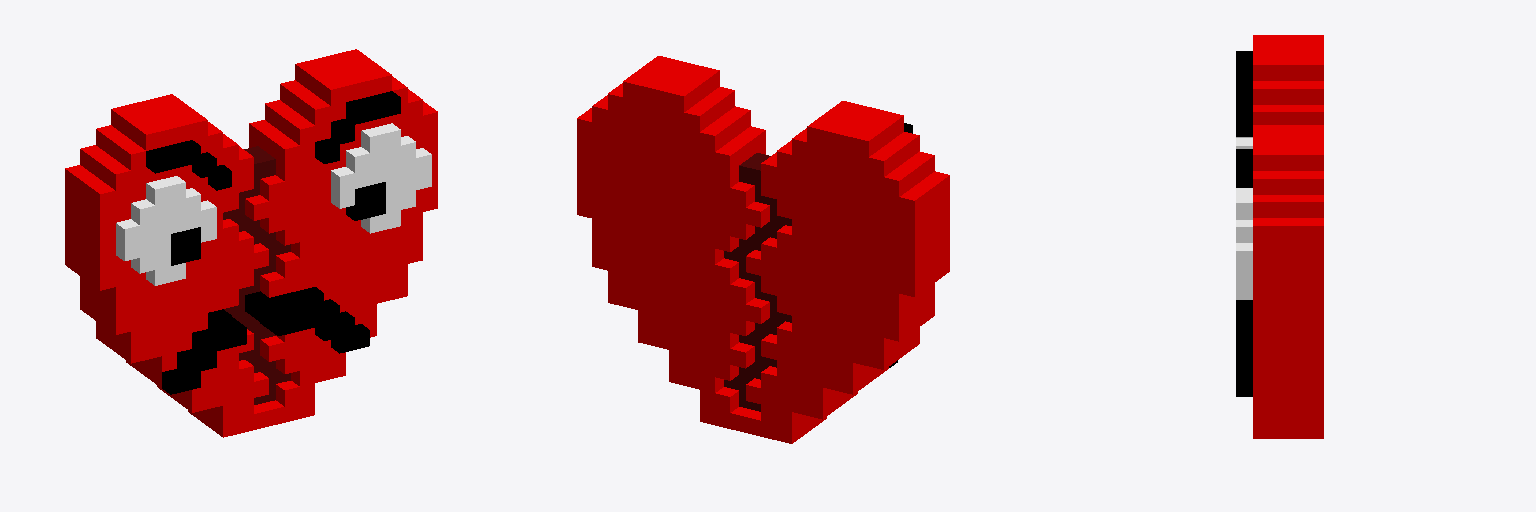
3 views of the same model, side by side, from view 1: azimuth 30°, elevation 25°; view 2: azimuth 150°, elevation 25°; view 3: azimuth 270°, elevation 25° (orthographic).
Visible parts, largest first — view 1: object 1; view 2: object 1; view 3: object 1.
Part boxes in pixels (x1,y1,x2,y2): object 1: (65,49,437,437); object 1: (577,56,949,443); object 1: (1236,35,1323,438).
Bounding box in the file's own units: 2.2 × 2 × 0.5.
1 materials, 1 textured.